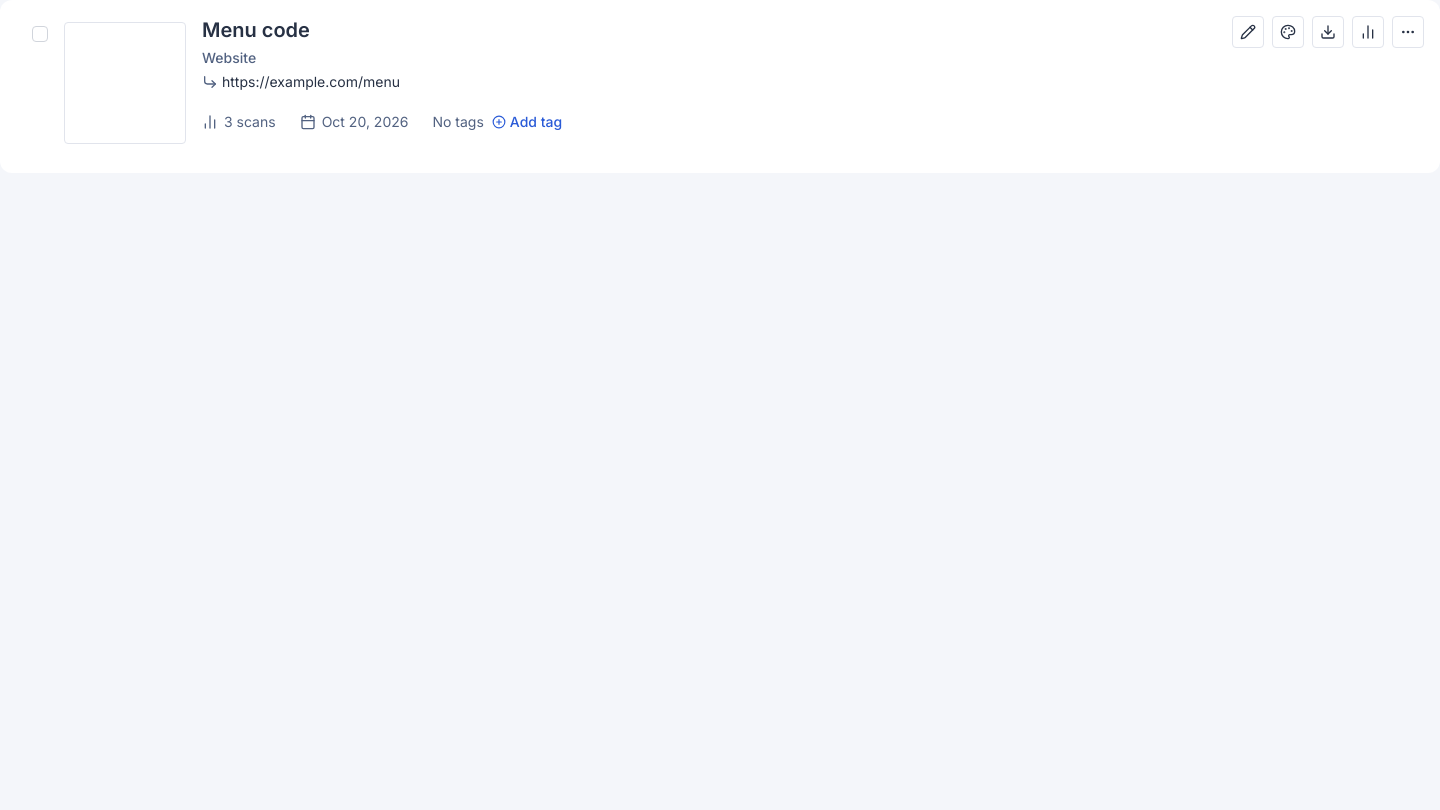
Scenario: QrCard › explains that deleting a QR-owned code also deletes its short link
What coordinates should you click on to do the following:
click the button named "More"
I would click on:
 (1408, 32)
Its box is x1=1392 y1=16 x2=1424 y2=48.
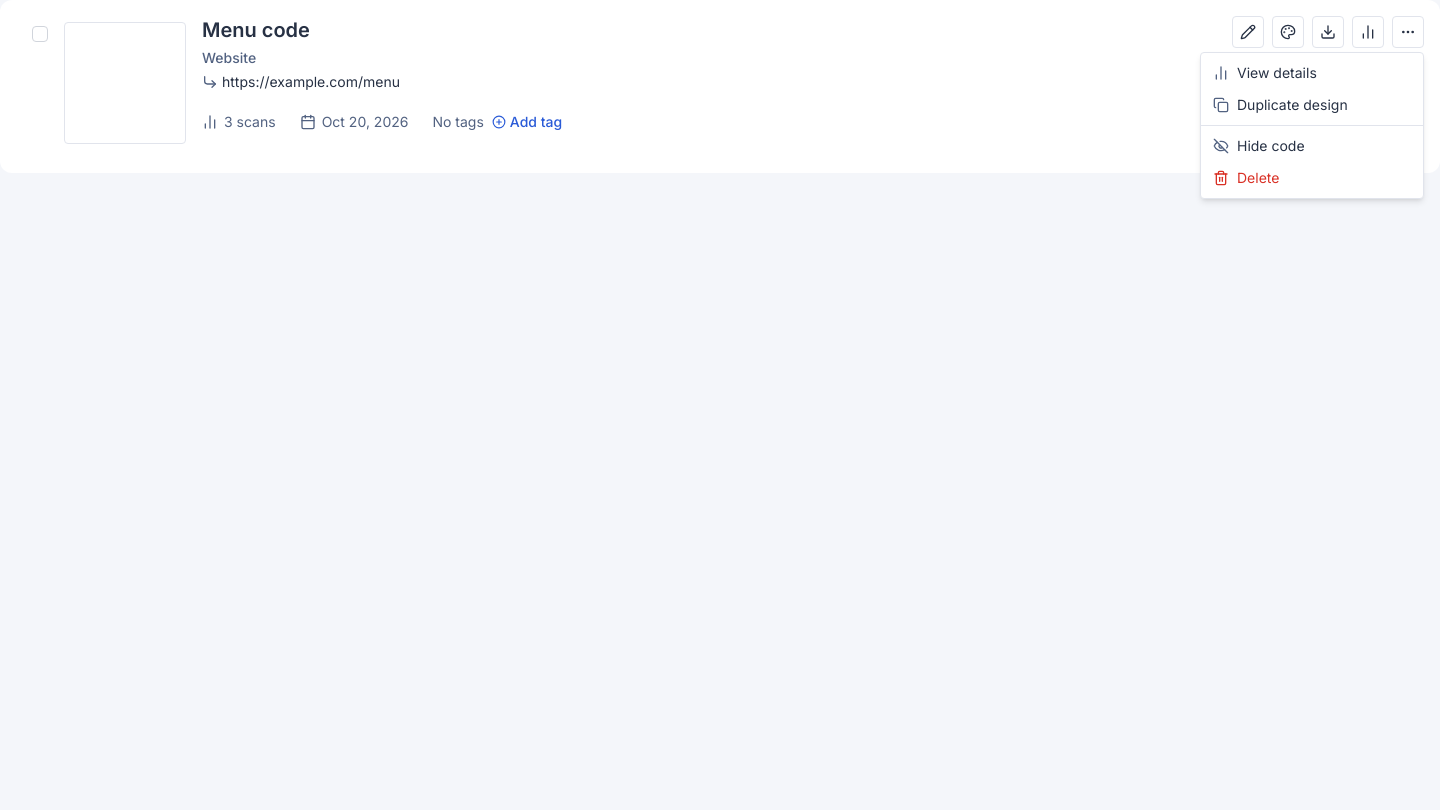
What coordinates should you click on to do the following:
click the menu item "Delete"
I would click on:
 (1246, 178)
Its box is x1=1213 y1=169 x2=1279 y2=186.
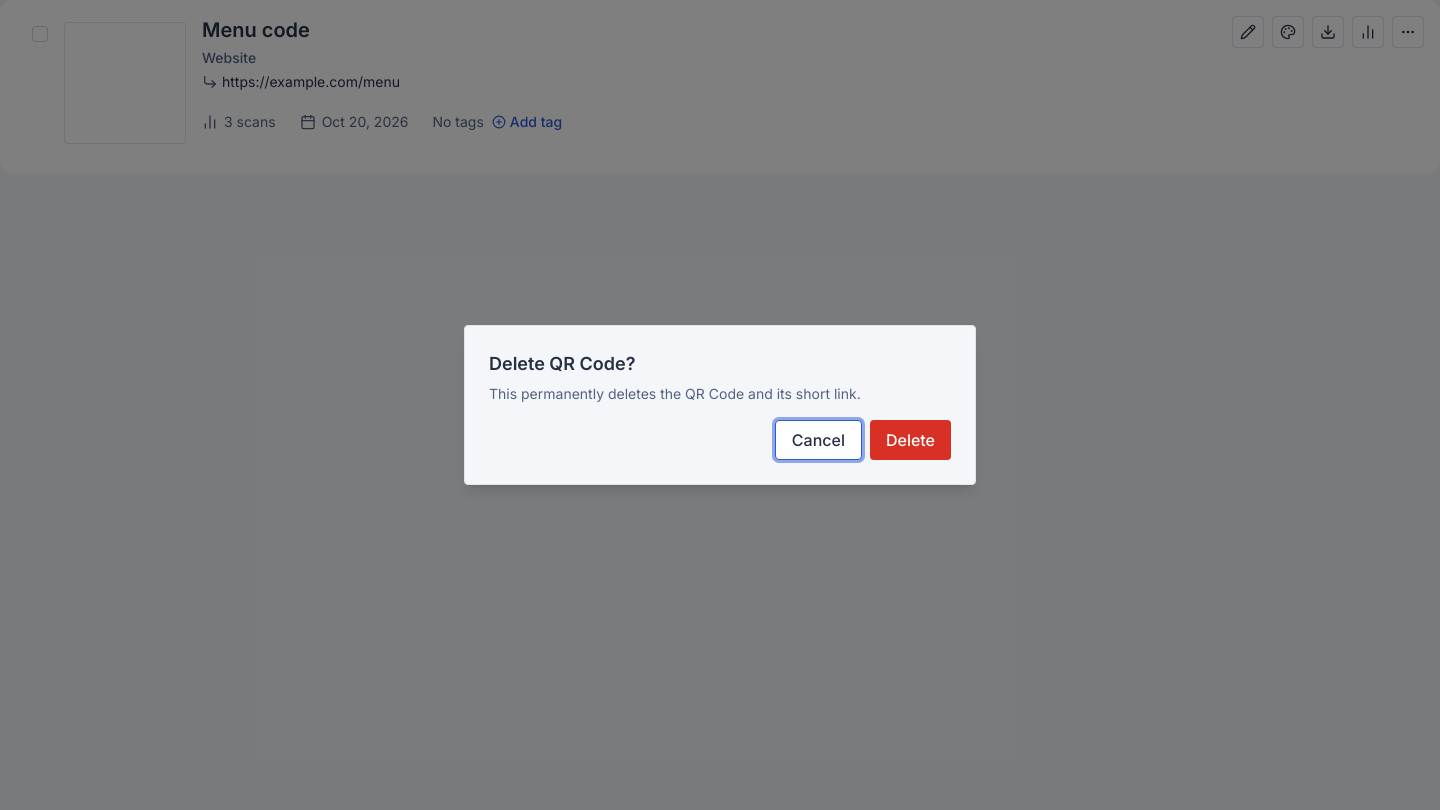
Expected: the heading "Delete QR Code?" is shown, x1=489 y1=350 x2=635 y2=378
Expected: the text "This permanently deletes the QR Code and its short link." is shown, x1=489 y1=384 x2=861 y2=404
